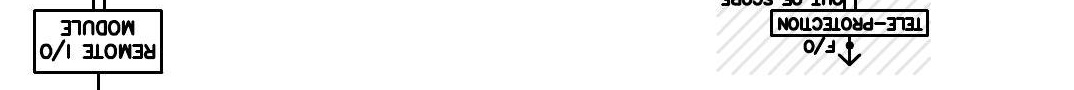remote_io_module: (33, 9, 164, 74)
tele_protection: (769, 8, 930, 38)
